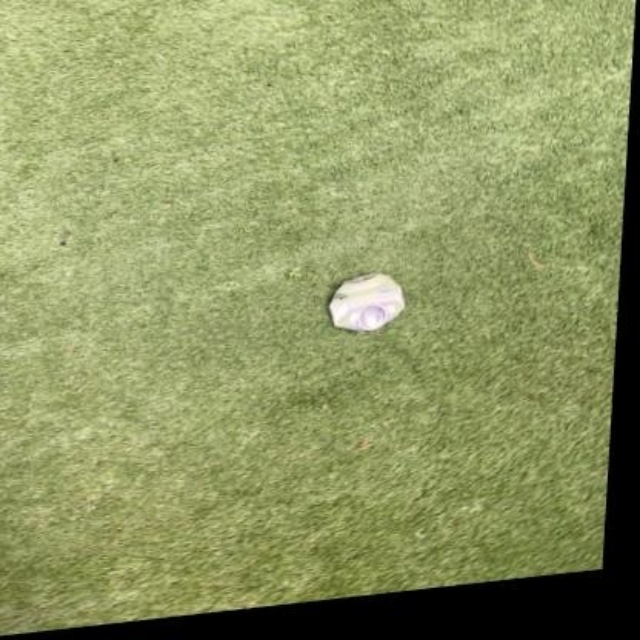trash: (329, 272, 403, 329)
